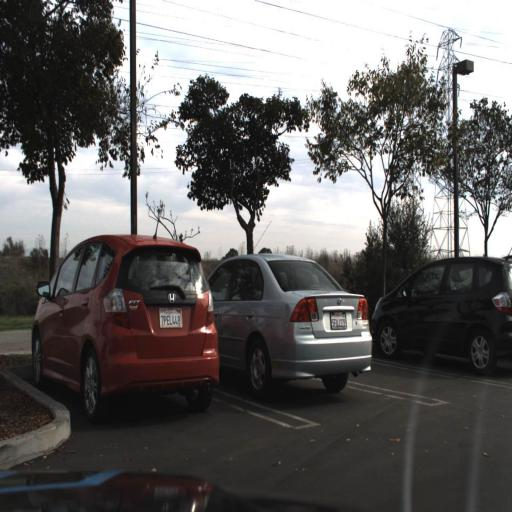car: (202, 250, 376, 405), (370, 247, 511, 379)
